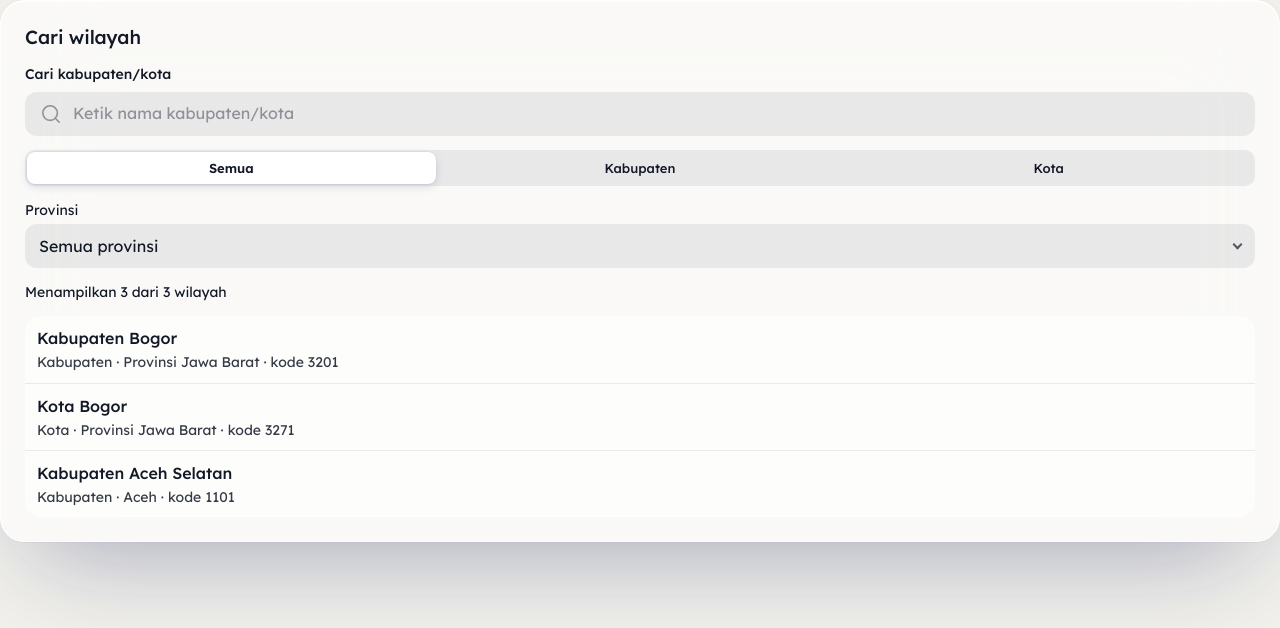
Test: RegionExplorer in LIVE mode with a successful answer › narrows the list to one province without changing any region’s code or name
Expected: the text "Menampilkan 3 dari 3 wilayah" is shown, [25, 282, 227, 302]
Note: The province list is the site's glass combobox, not a native select.
Click the dropdown labelled "provinsi" at (99, 246), box [25, 224, 1255, 268]
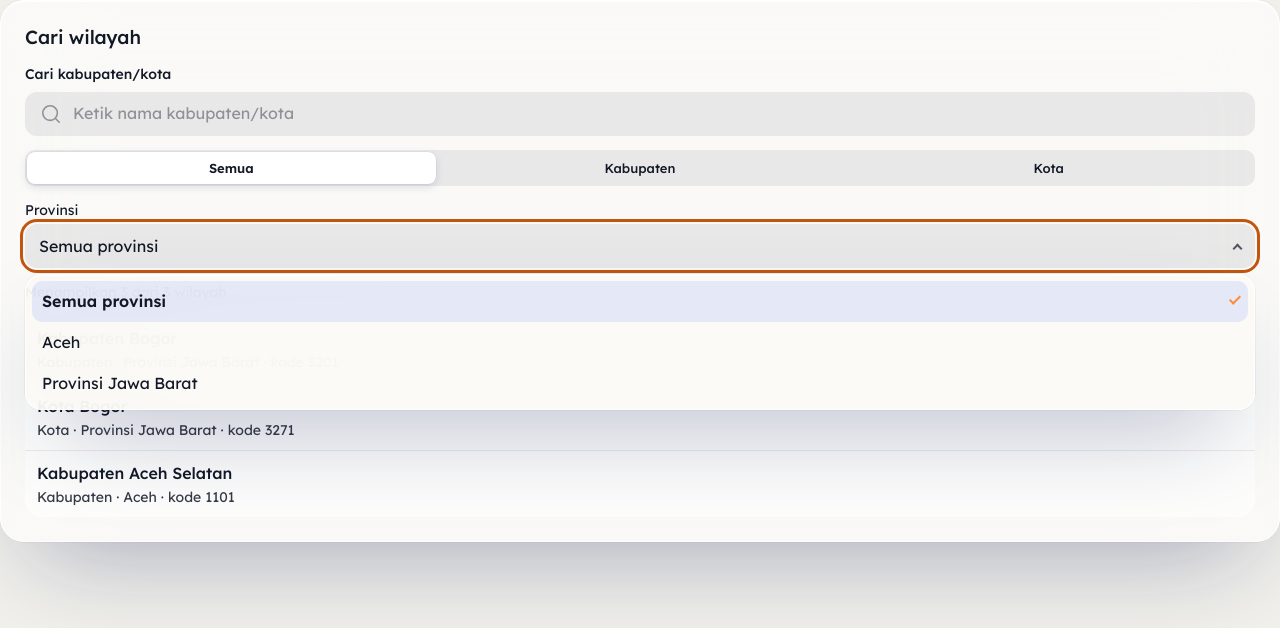
Click the option "Provinsi Jawa Barat" at (120, 383), box [42, 373, 198, 393]
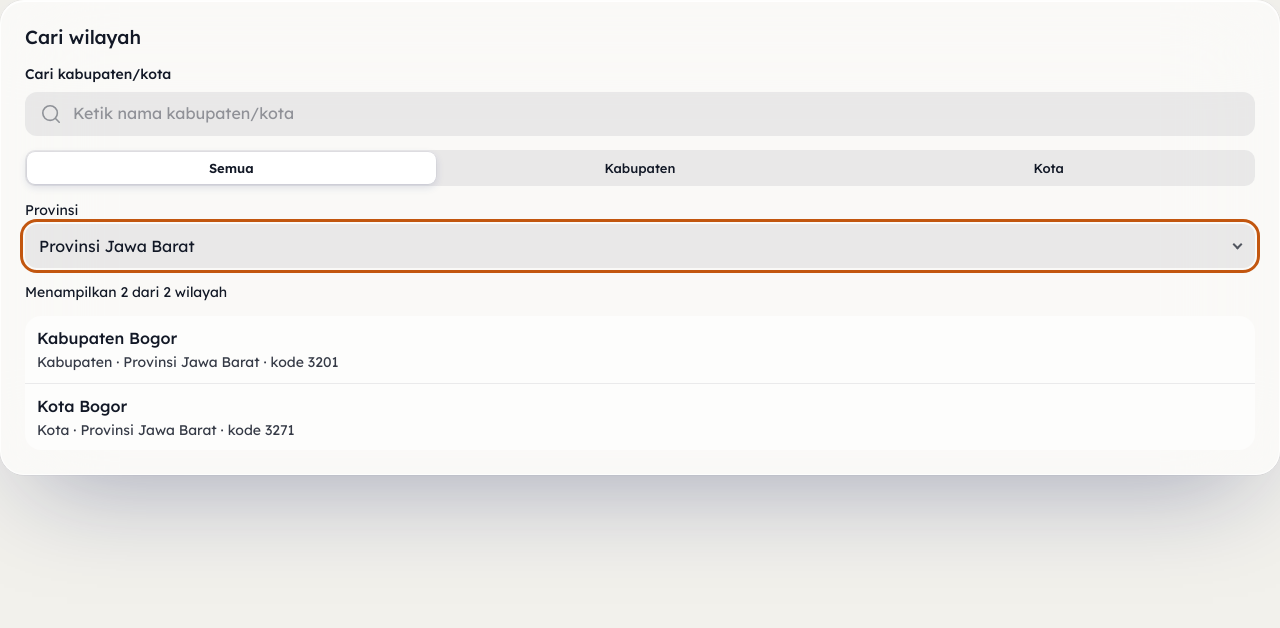
Expected: the button "Kota Bogor Kota · Provinsi Jawa Barat · kode 3271" is shown, [25, 384, 1255, 450]
Expected: the text "Menampilkan 2 dari 2 wilayah" is shown, [25, 282, 227, 302]
Expected: the button "Aceh Selatan" is gone
